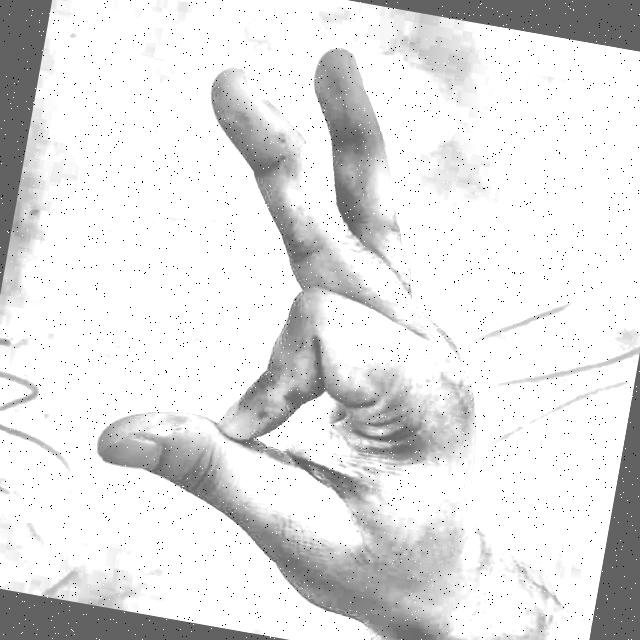Uo: (24, 0, 612, 640)
